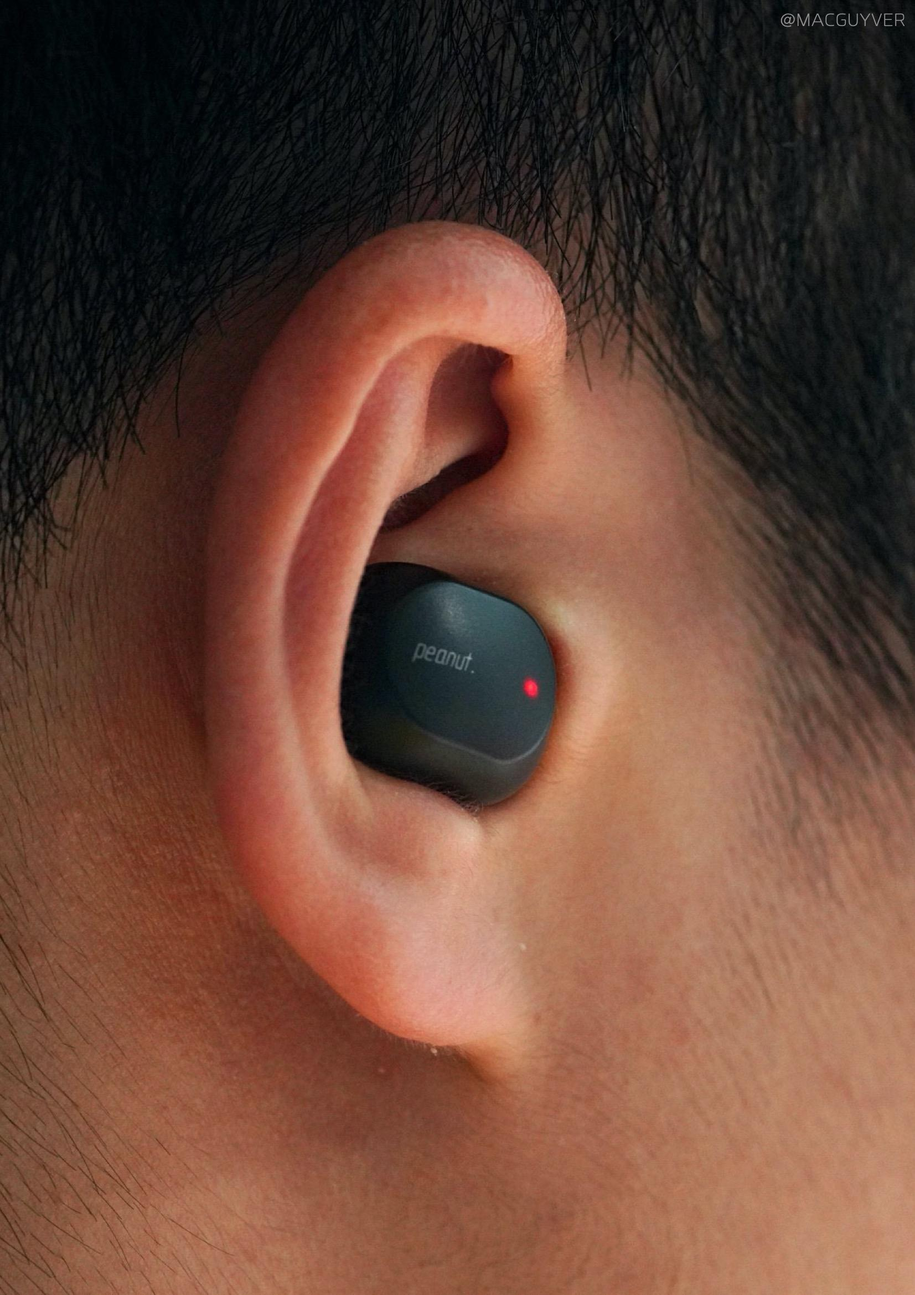earphone: (321, 555, 607, 823)
